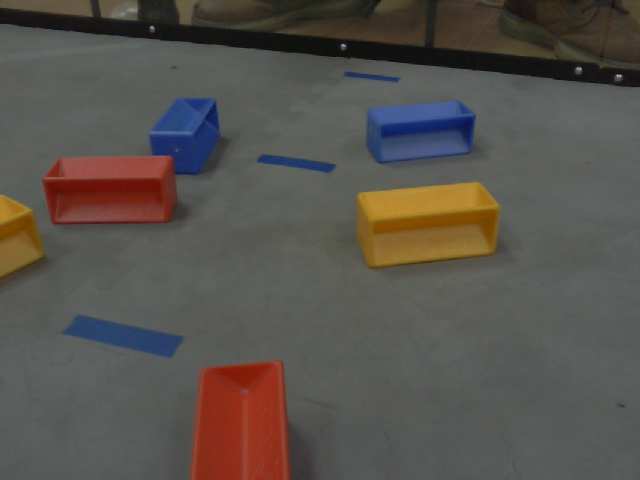BlueSample: (360, 99, 476, 167), (148, 93, 224, 173)
RedSample: (188, 357, 293, 480), (42, 152, 179, 227)
YellowSample: (350, 180, 503, 274), (1, 195, 46, 283)
